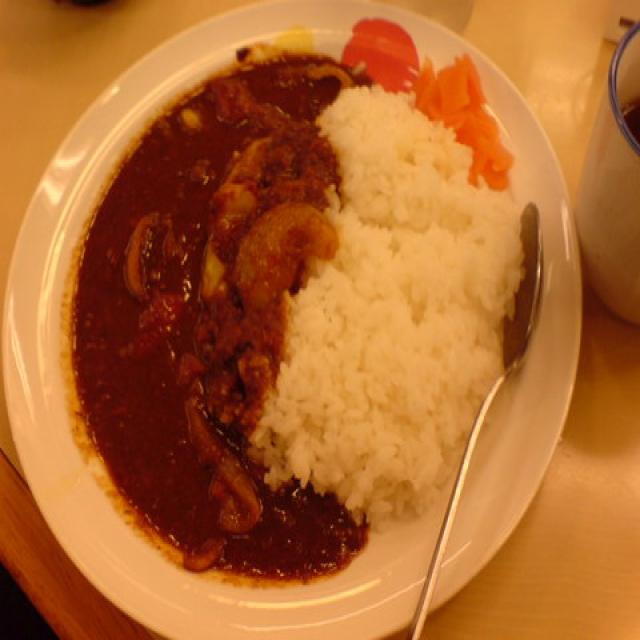牛肉菜式: (40, 18, 552, 592)
